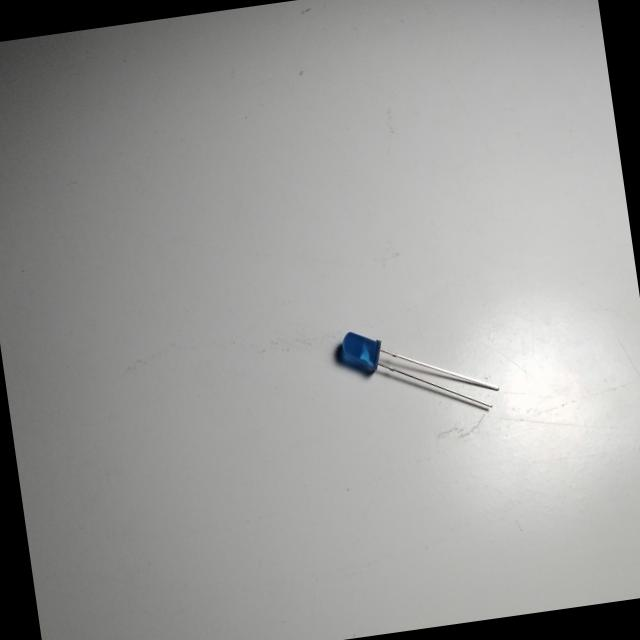blue_led: (333, 294, 508, 449)
